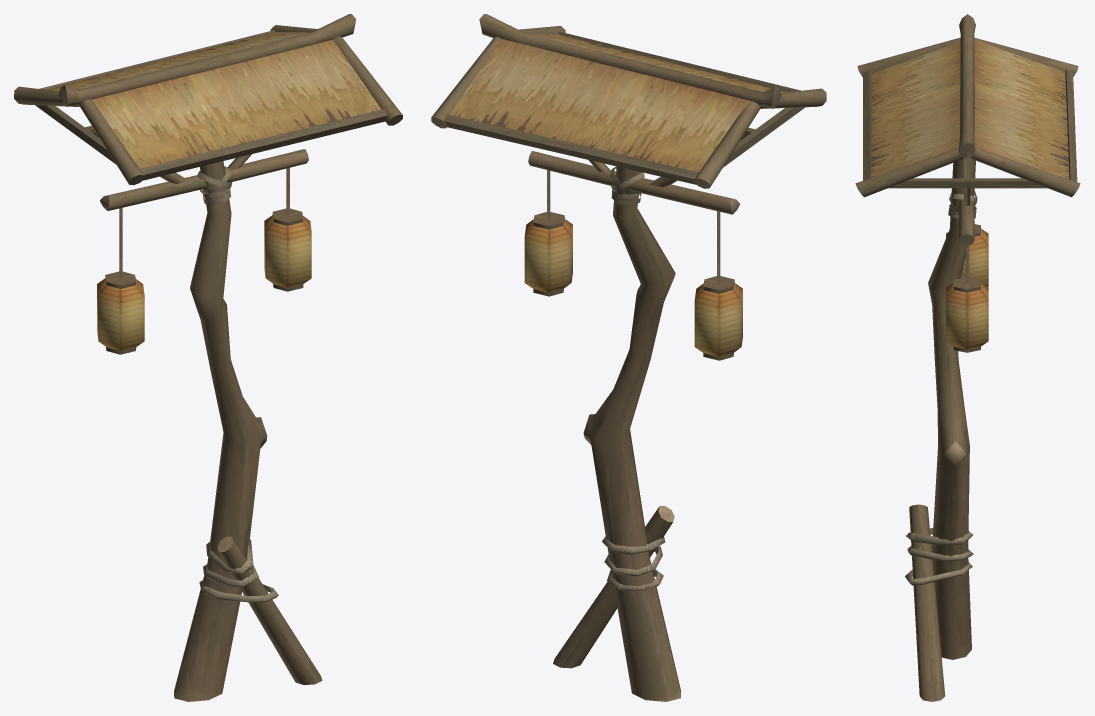
File: Homeworld_Exterior_Ly_Lamp_Lamp_09_Lod0.fbx
3 renders of one model, left to right at view 1: azimuth 30°, elevation 25°; view 2: azimuth 150°, elevation 25°; view 3: azimuth 270°, elevation 25°, orthographic. The views are drawn at different scales.
Visible parts, largest first — view 1: Homeworld_Exterior_Ly_Lamp_Lamp_09_Lod0; view 2: Homeworld_Exterior_Ly_Lamp_Lamp_09_Lod0; view 3: Homeworld_Exterior_Ly_Lamp_Lamp_09_Lod0.
Boxes of the visible parts, box(x1,y1,x2,y2) form: Homeworld_Exterior_Ly_Lamp_Lamp_09_Lod0: box(14, 14, 402, 701); Homeworld_Exterior_Ly_Lamp_Lamp_09_Lod0: box(431, 14, 826, 701); Homeworld_Exterior_Ly_Lamp_Lamp_09_Lod0: box(855, 14, 1080, 701).
Bounding box in the file's own units: 1.85 × 3.88 × 1.36.
Materials: 1 (1 with a texture image).
